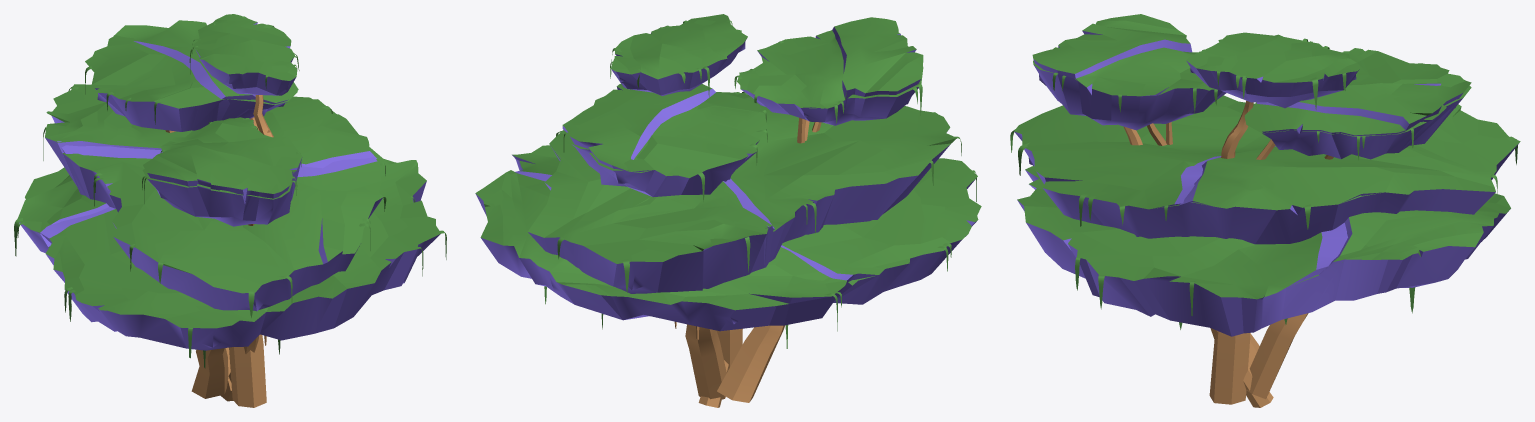
The model's file is tree_canopy_B.fbx.
3 views of the same model, side by side, from view 1: azimuth 30°, elevation 25°; view 2: azimuth 150°, elevation 25°; view 3: azimuth 270°, elevation 25° (orthographic). The views are drawn at different scales.
Visible parts, largest first — view 1: tree_B_canopy_B_B_leveled, tree_A_canopy_B, tree_A_canopy_B_C_leveled, tree_B_canopy_B_leveled, tree_B_canopy_B, tree_B_canopy_B_E, tree_B_canopy_B_B, tree_A_canopy_B_C, tree_B_canopy_trunks_bottom_A, tree_B_canopy_trunks_bottom_C, tree_A_canopy_B_leveled, tree_B_canopy_B_trunks_middle_centre_A; view 2: tree_B_canopy_B_B_leveled, tree_A_canopy_B, tree_A_canopy_B_C_leveled, tree_B_canopy_B_leveled, tree_B_canopy_B_E, tree_B_canopy_B, tree_B_canopy_B_B, tree_B_canopy_trunks_bottom_C, tree_A_canopy_B_leveled, tree_B_canopy_trunks_bottom_B, tree_A_canopy_B_C, tree_B_canopy_trunks_bottom_A; view 3: tree_B_canopy_B_B_leveled, tree_A_canopy_B, tree_A_canopy_B_C_leveled, tree_B_canopy_B_leveled, tree_B_canopy_B_E, tree_B_canopy_B, tree_A_canopy_B_leveled, tree_B_canopy_B_B, tree_B_canopy_trunks_bottom_A, tree_B_canopy_trunks_bottom_B, tree_A_canopy_B_C, tree_B_canopy_B_trunks_middle_centre_A (+1 smaller).
Boxes of the visible parts, x1,y1,x2,y2 form: tree_B_canopy_B_B_leveled: (45, 84, 382, 311); tree_A_canopy_B: (17, 99, 440, 350); tree_A_canopy_B_C_leveled: (143, 117, 302, 226); tree_B_canopy_B_leveled: (85, 20, 298, 131); tree_B_canopy_B: (85, 35, 297, 131); tree_B_canopy_B_E: (193, 14, 297, 95); tree_B_canopy_B_B: (56, 96, 381, 219); tree_A_canopy_B_C: (142, 142, 297, 222); tree_B_canopy_trunks_bottom_A: (229, 334, 266, 407); tree_B_canopy_trunks_bottom_C: (191, 348, 228, 398); tree_A_canopy_B_leveled: (31, 111, 335, 247); tree_B_canopy_B_trunks_middle_centre_A: (253, 95, 273, 137); tree_B_canopy_B_B_leveled: (528, 92, 956, 293); tree_A_canopy_B: (475, 145, 981, 331); tree_A_canopy_B_C_leveled: (737, 17, 923, 125); tree_B_canopy_B_leveled: (562, 83, 766, 194); tree_B_canopy_B_E: (611, 14, 747, 95); tree_B_canopy_B: (563, 92, 767, 197); tree_B_canopy_B_B: (549, 115, 796, 272); tree_B_canopy_trunks_bottom_C: (717, 325, 784, 402); tree_A_canopy_B_leveled: (492, 170, 878, 300); tree_B_canopy_trunks_bottom_B: (685, 324, 726, 399); tree_A_canopy_B_C: (801, 31, 923, 122); tree_B_canopy_trunks_bottom_A: (717, 328, 742, 370); tree_B_canopy_B_B_leveled: (1014, 95, 1520, 244); tree_A_canopy_B: (1017, 157, 1510, 336); tree_A_canopy_B_C_leveled: (1032, 14, 1226, 130); tree_B_canopy_B_leveled: (1244, 48, 1471, 155); tree_B_canopy_B_E: (1186, 32, 1360, 108); tree_B_canopy_B: (1244, 49, 1471, 159); tree_A_canopy_B_leveled: (1282, 210, 1447, 319); tree_B_canopy_B_B: (1124, 134, 1443, 238); tree_B_canopy_trunks_bottom_A: (1209, 331, 1250, 404); tree_B_canopy_trunks_bottom_B: (1246, 313, 1308, 399); tree_A_canopy_B_C: (1033, 60, 1092, 118); tree_B_canopy_B_trunks_middle_centre_A: (1221, 100, 1253, 158).
Size of the model in its own units: 889 by 763 by 974.
